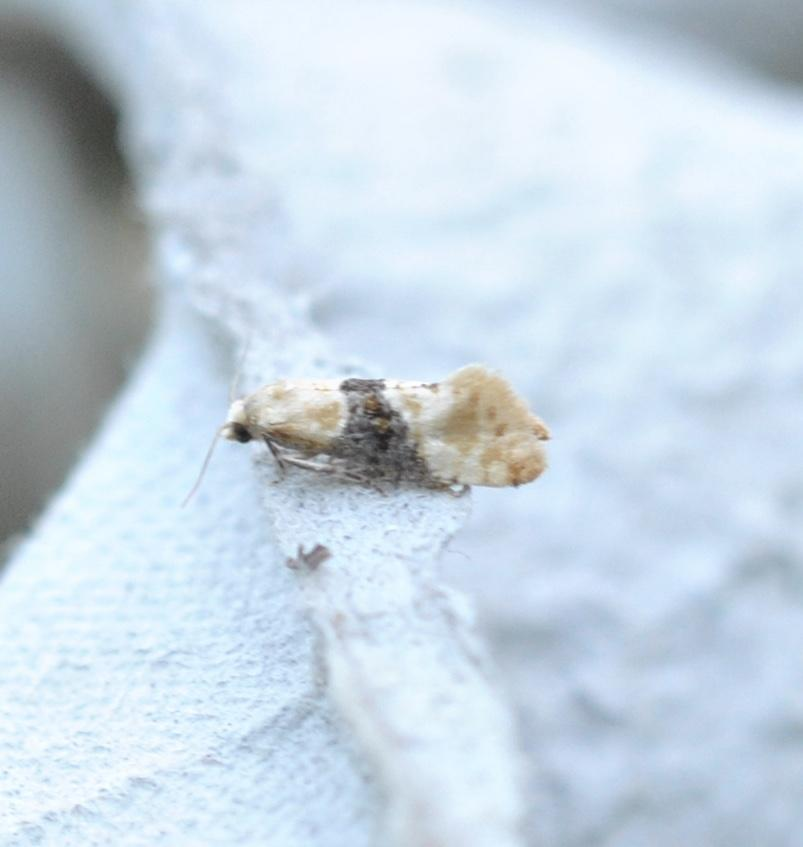Eupoecilia Ambiguella: (179, 332, 555, 512)
